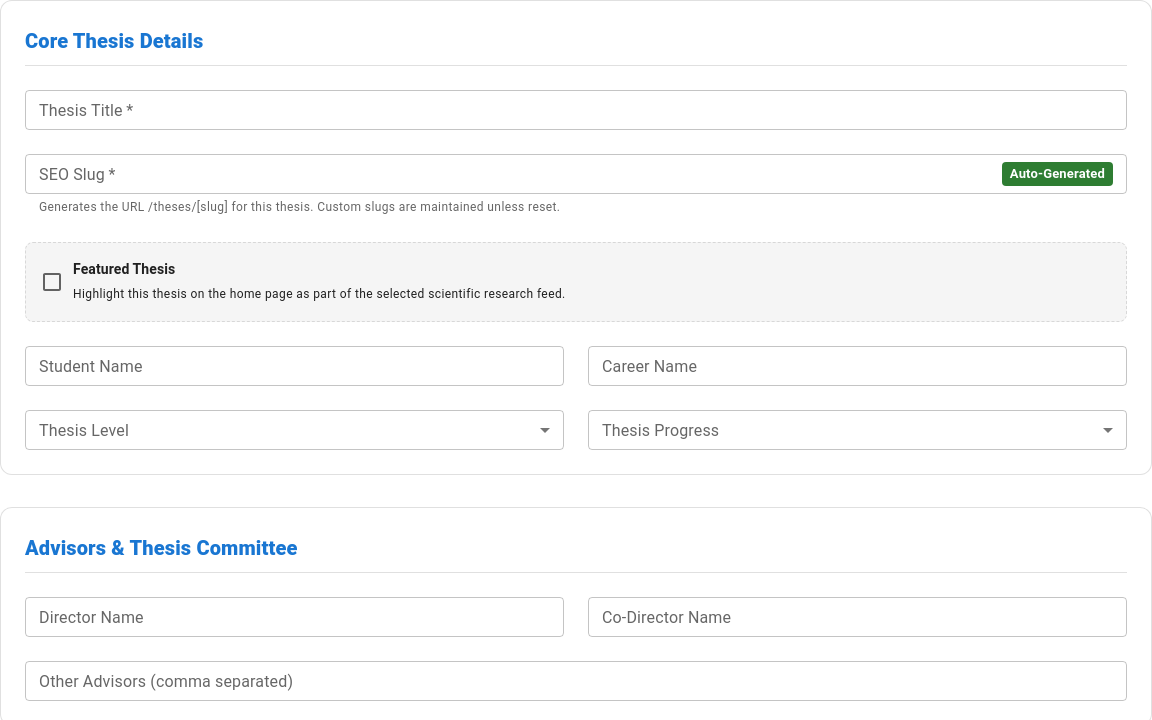
Scenario: ThesisForm Component › stops auto-generating slug if user manually overrides it, and resets when Reset Auto is clicked
The width and height of the screenshot is (1152, 720).
Step 1. Type "New Thesis Title" into the field labelled "Thesis Title *" → (576,110), box x1=25 y1=90 x2=1127 y2=130
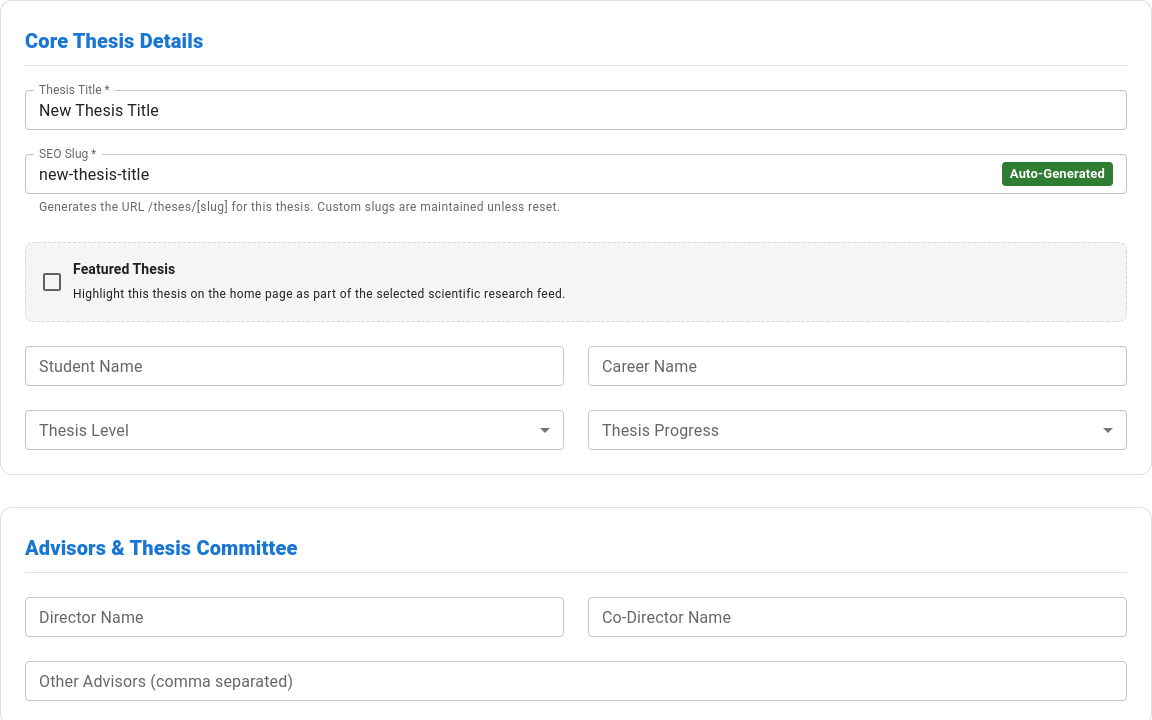
Expected: the field labelled "SEO Slug *" holds "new-thesis-title"
Note: Override slug manually
Step 2. Replace the text in the field labelled "SEO Slug *" with "custom-slug-value" → (509,174), box x1=25 y1=154 x2=994 y2=194
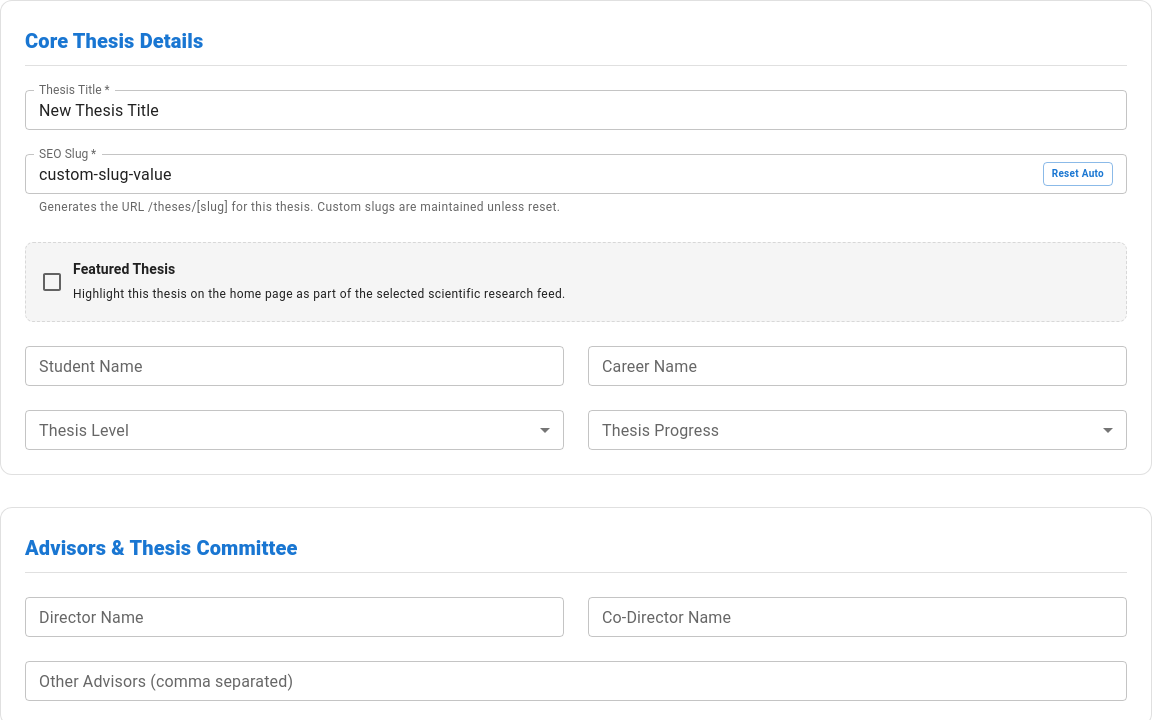
Expected: the button "Reset Auto" is shown, x1=1043 y1=162 x2=1113 y2=186
Note: Change title and verify it does NOT auto-update anymore
Step 3. Replace the text in the field labelled "Thesis Title *" with "Another Thesis Title" → (576,110), box x1=25 y1=90 x2=1127 y2=130
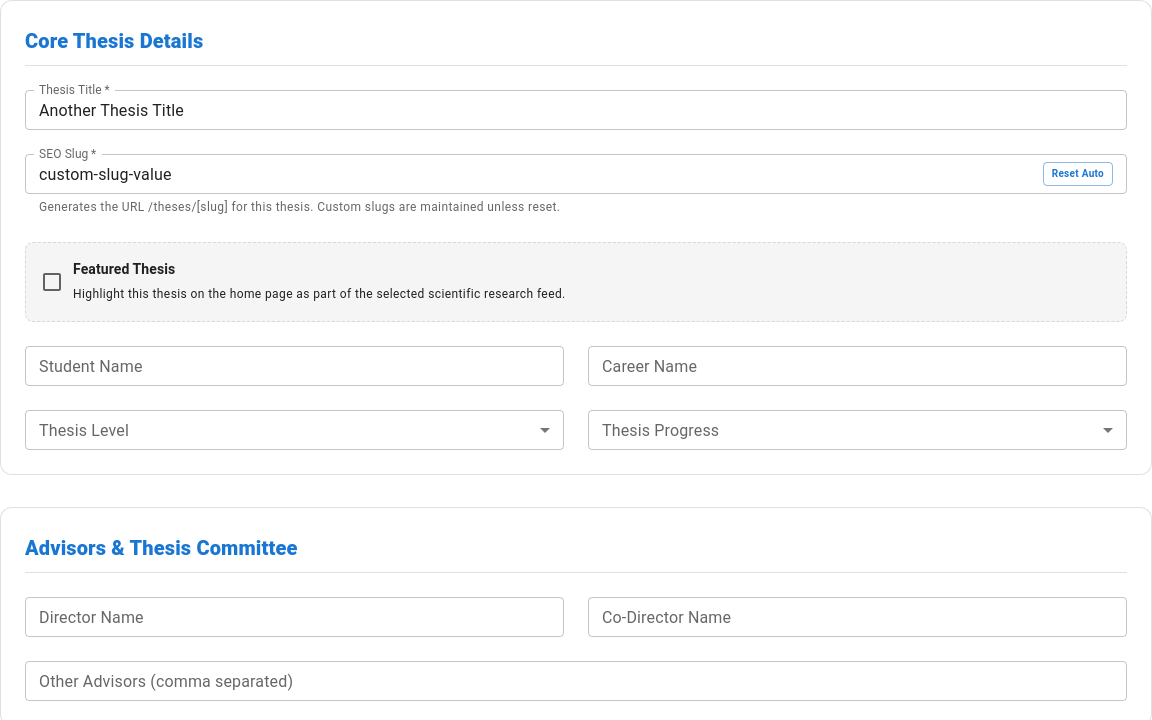
Note: Click reset auto and verify it generates another-thesis-title
Step 4. Click the button "Reset Auto" → (1078,174), box x1=1043 y1=162 x2=1113 y2=186
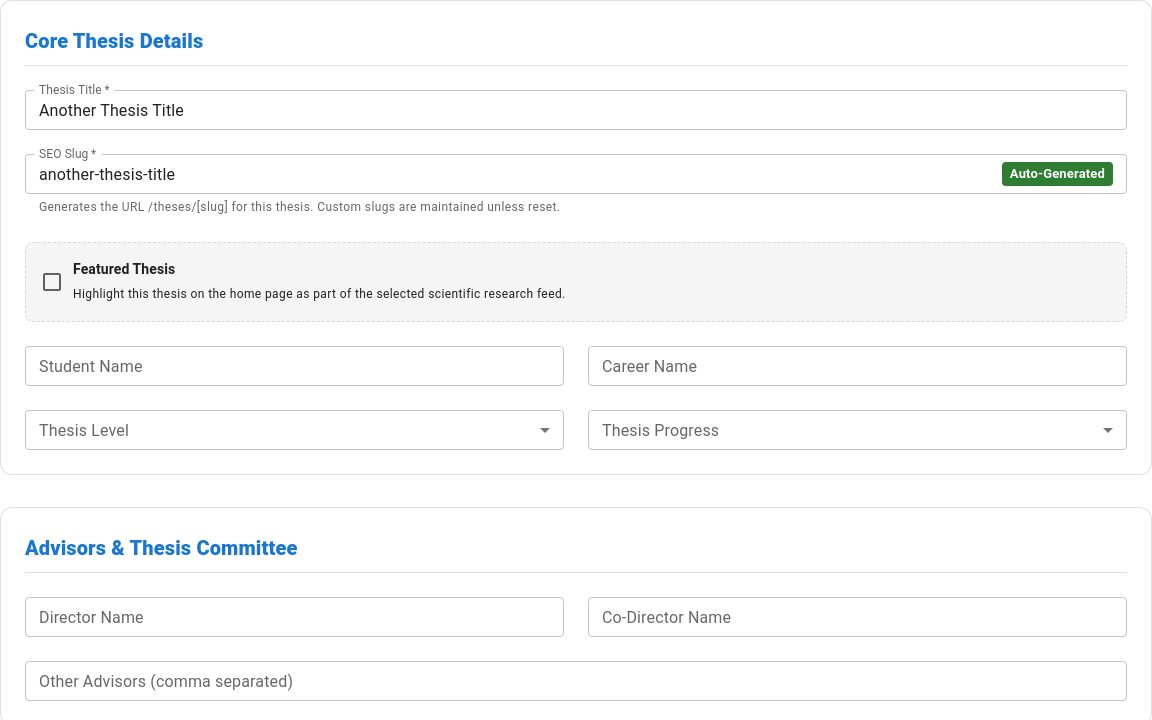
Expected: the field labelled "SEO Slug *" holds "another-thesis-title", x1=25 y1=154 x2=994 y2=194
